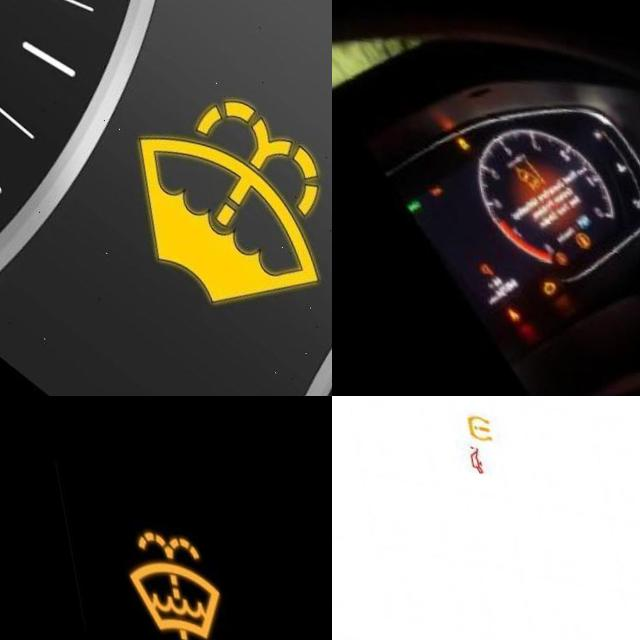Washer Fluid: (118, 71, 328, 314), (112, 512, 219, 638)
